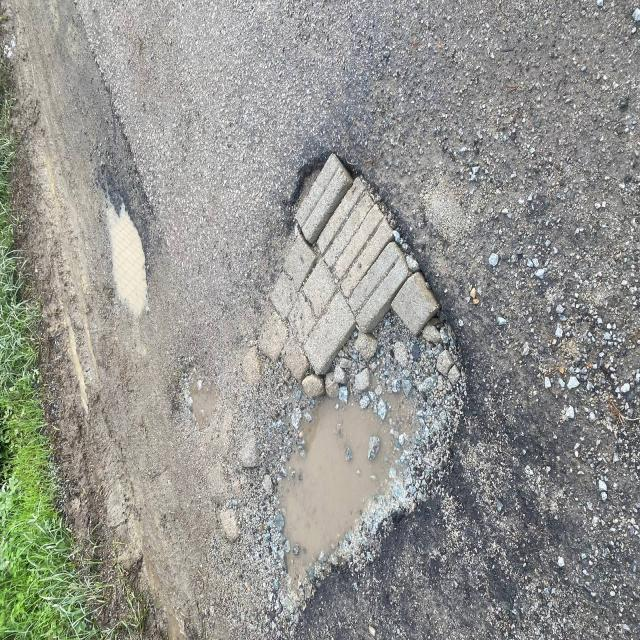Pothole: (216, 138, 495, 640)
